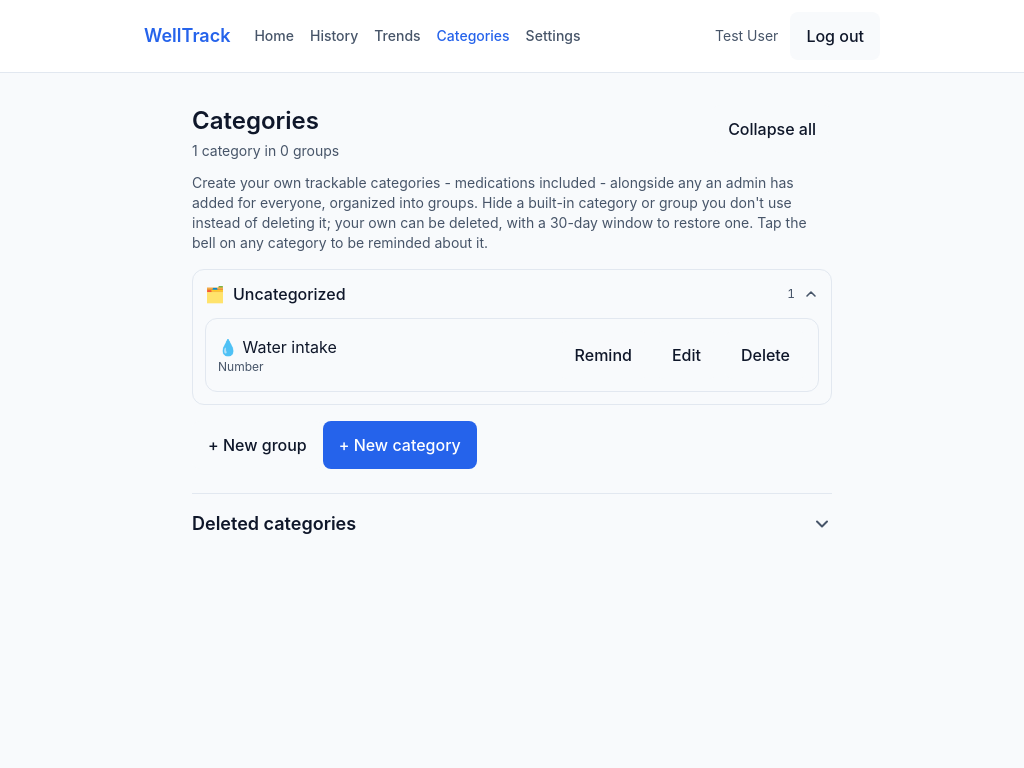
Scenario: CategoriesPage › soft-deletes the user's own category (not a hard delete), via a real confirmation dialog, and removes it from the list
Check: the text "💧 Water intake" is shown, box [218,335,337,359]
Click the button with aria-label "Delete Water intake" at (765, 355), box [725,331,806,379]
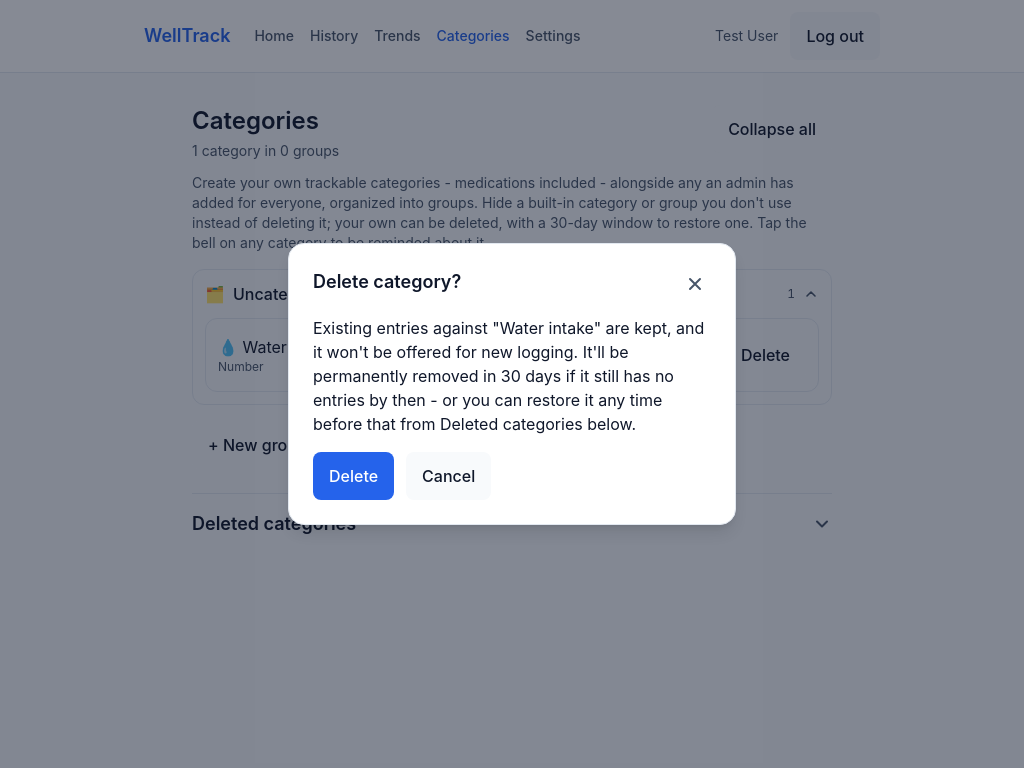
Check: the heading "Delete category?" is shown, box [313,268,461,296]
Click the button "Delete" at (354, 476), box [313,452,394,500]
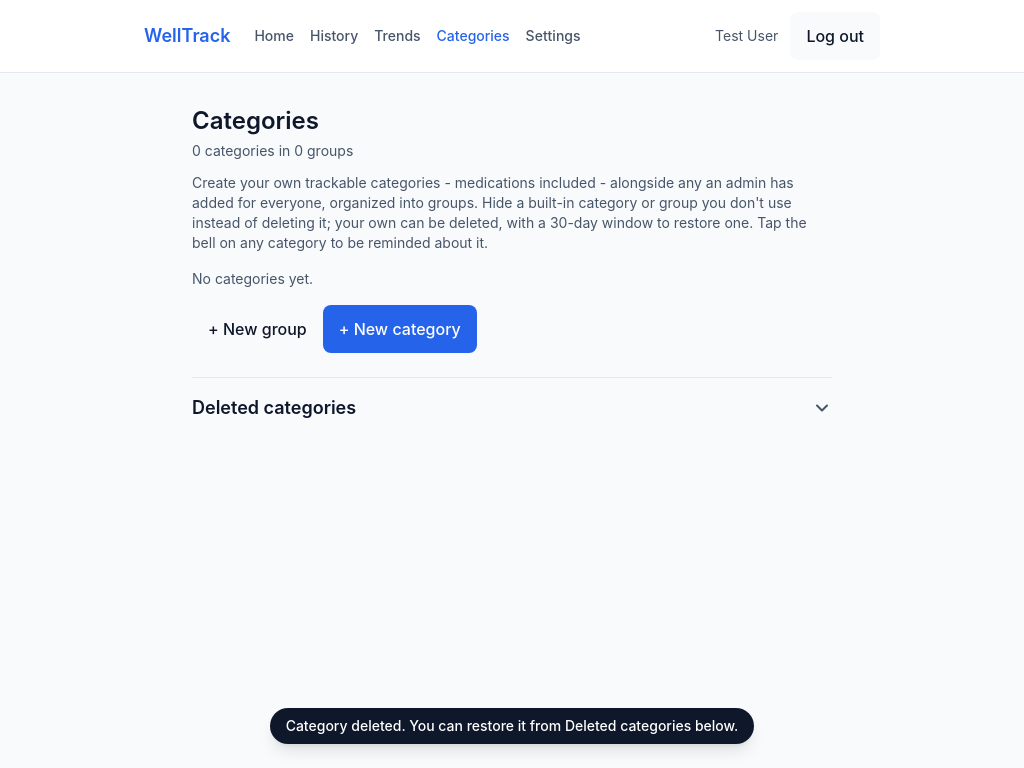
Check: the text "Water intake" is gone
